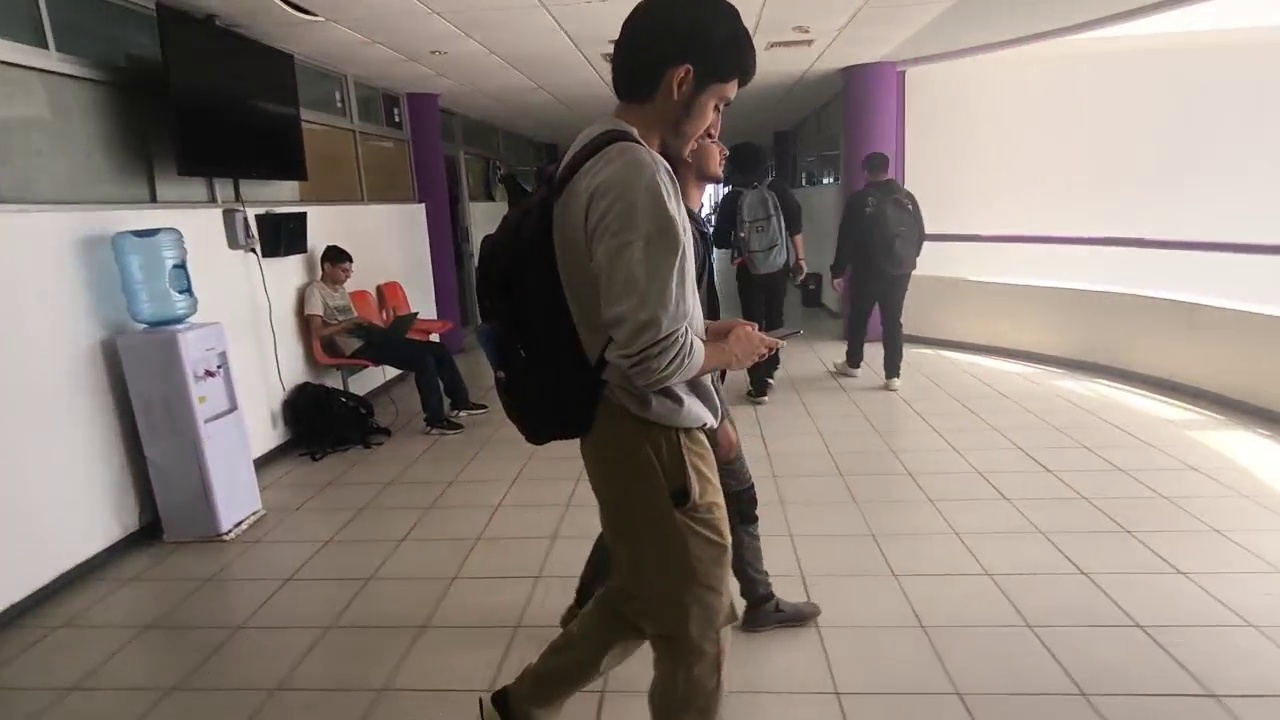mixto2: (752, 312, 809, 346)
